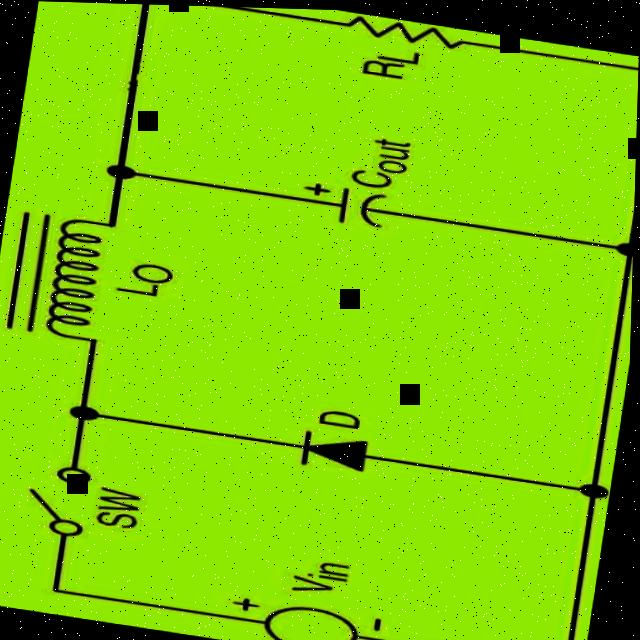capacitor: (310, 174, 404, 244)
diode: (257, 405, 389, 494)
inductor: (0, 195, 157, 358)
node: (88, 153, 158, 189), (56, 393, 118, 432), (568, 468, 614, 502), (593, 226, 635, 263)
resistor: (318, 7, 484, 65)
source: (230, 588, 390, 640)
switch: (11, 442, 120, 548)
